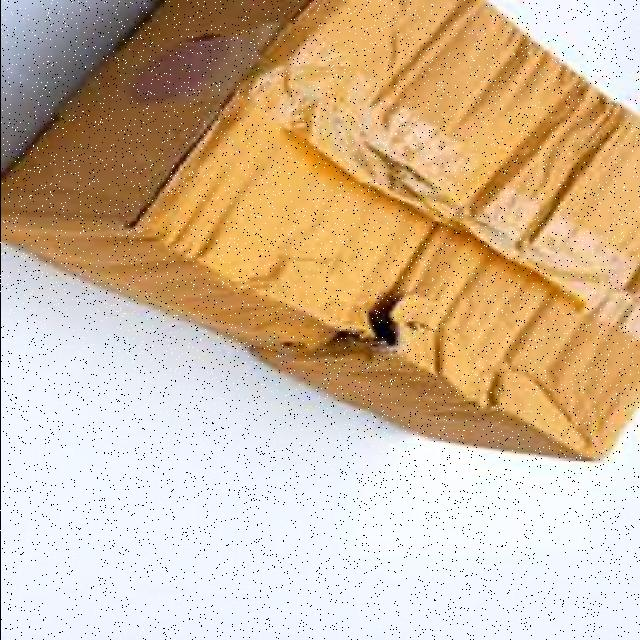defect: (0, 1, 639, 458)
